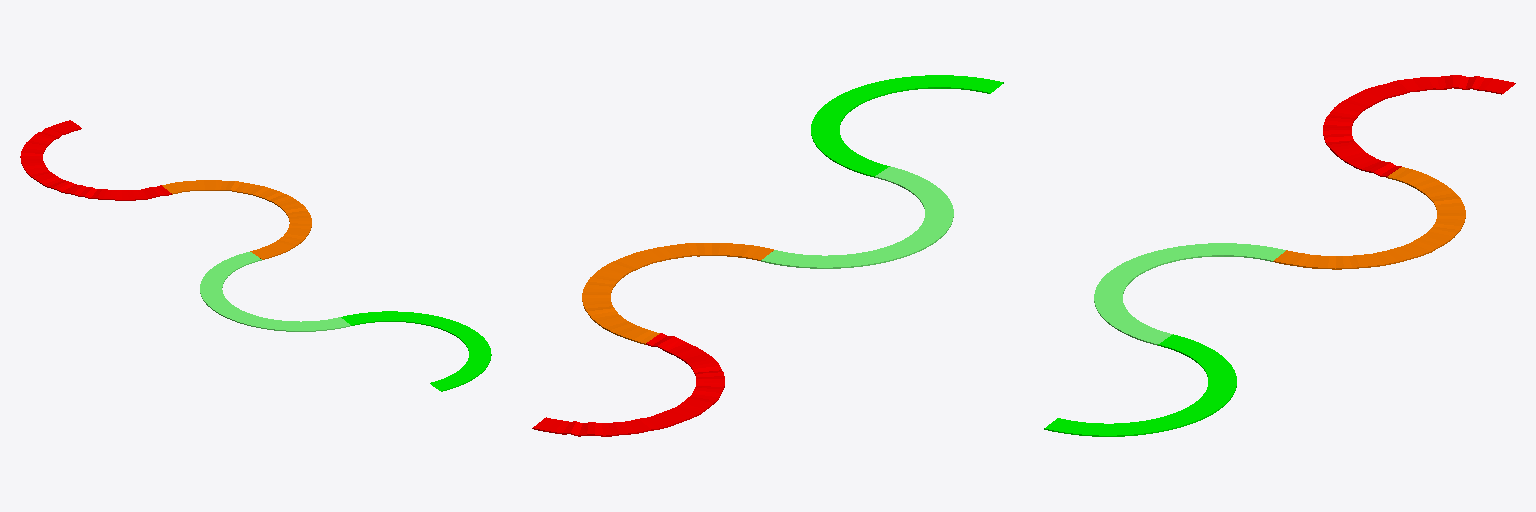
URDF robot description (double_s_wave_terrain):
<?xml version="1.0"?>
<robot name="double_s_wave_terrain">

  <!-- Base link (唯一的根节点) -->
  <link name="base_link">
    <inertial>
      <mass value="0.0"/>
      <inertia ixx="0.0" ixy="0.0" ixz="0.0" 
               iyy="0.0" iyz="0.0" izz="0.0"/>
    </inertial>
  </link>

  <!-- Segment 0: S1_Curve1_Easy, friction=0.90 -->
  <link name="segment_0_S1_Curve1_Easy">
    <visual>
      <origin xyz="0 0 0" rpy="0 0 0"/>
      <geometry>
        <mesh filename="double_s_wave_segment_S1_Curve1_Easy.obj" scale="1.0 1.0 1.0"/>
      </geometry>
      <material name="mat_0">
        <color rgba="0.0 1.0 0.0 1.0"/>
      </material>
    </visual>
    
    <collision>
      <origin xyz="0 0 0" rpy="0 0 0"/>
      <geometry>
        <mesh filename="double_s_wave_segment_S1_Curve1_Easy.obj" scale="1.0 1.0 1.0"/>
      </geometry>
      <contact>
        <lateral_friction value="0.9"/>
        <rolling_friction value="0.09000000000000001"/>
        <spinning_friction value="0.045000000000000005"/>
      </contact>
    </collision>
    
    <inertial>
      <mass value="0.0"/>
      <inertia ixx="0.0" ixy="0.0" ixz="0.0" 
               iyy="0.0" iyz="0.0" izz="0.0"/>
    </inertial>
  </link>
  
  <joint name="joint_0" type="fixed">
    <parent link="base_link"/>
    <child link="segment_0_S1_Curve1_Easy"/>
    <origin xyz="0 0 0" rpy="0 0 0"/>
  </joint>
  
  <!-- Segment 1: S1_Curve2_Easy, friction=0.85 -->
  <link name="segment_1_S1_Curve2_Easy">
    <visual>
      <origin xyz="0 0 0" rpy="0 0 0"/>
      <geometry>
        <mesh filename="double_s_wave_segment_S1_Curve2_Easy.obj" scale="1.0 1.0 1.0"/>
      </geometry>
      <material name="mat_1">
        <color rgba="0.5 1.0 0.5 1.0"/>
      </material>
    </visual>
    
    <collision>
      <origin xyz="0 0 0" rpy="0 0 0"/>
      <geometry>
        <mesh filename="double_s_wave_segment_S1_Curve2_Easy.obj" scale="1.0 1.0 1.0"/>
      </geometry>
      <contact>
        <lateral_friction value="0.85"/>
        <rolling_friction value="0.085"/>
        <spinning_friction value="0.0425"/>
      </contact>
    </collision>
    
    <inertial>
      <mass value="0.0"/>
      <inertia ixx="0.0" ixy="0.0" ixz="0.0" 
               iyy="0.0" iyz="0.0" izz="0.0"/>
    </inertial>
  </link>
  
  <joint name="joint_1" type="fixed">
    <parent link="base_link"/>
    <child link="segment_1_S1_Curve2_Easy"/>
    <origin xyz="0 0 0" rpy="0 0 0"/>
  </joint>
  
  <!-- Segment 2: S2_Curve1_Hard, friction=0.40 -->
  <link name="segment_2_S2_Curve1_Hard">
    <visual>
      <origin xyz="0 0 0" rpy="0 0 0"/>
      <geometry>
        <mesh filename="double_s_wave_segment_S2_Curve1_Hard.obj" scale="1.0 1.0 1.0"/>
      </geometry>
      <material name="mat_2">
        <color rgba="1.0 0.5 0.0 1.0"/>
      </material>
    </visual>
    
    <collision>
      <origin xyz="0 0 0" rpy="0 0 0"/>
      <geometry>
        <mesh filename="double_s_wave_segment_S2_Curve1_Hard.obj" scale="1.0 1.0 1.0"/>
      </geometry>
      <contact>
        <lateral_friction value="0.4"/>
        <rolling_friction value="0.04000000000000001"/>
        <spinning_friction value="0.020000000000000004"/>
      </contact>
    </collision>
    
    <inertial>
      <mass value="0.0"/>
      <inertia ixx="0.0" ixy="0.0" ixz="0.0" 
               iyy="0.0" iyz="0.0" izz="0.0"/>
    </inertial>
  </link>
  
  <joint name="joint_2" type="fixed">
    <parent link="base_link"/>
    <child link="segment_2_S2_Curve1_Hard"/>
    <origin xyz="0 0 0" rpy="0 0 0"/>
  </joint>
  
  <!-- Segment 3: S2_Curve2_Extreme, friction=0.25 -->
  <link name="segment_3_S2_Curve2_Extreme">
    <visual>
      <origin xyz="0 0 0" rpy="0 0 0"/>
      <geometry>
        <mesh filename="double_s_wave_segment_S2_Curve2_Extreme.obj" scale="1.0 1.0 1.0"/>
      </geometry>
      <material name="mat_3">
        <color rgba="1.0 0.0 0.0 0.9"/>
      </material>
    </visual>
    
    <collision>
      <origin xyz="0 0 0" rpy="0 0 0"/>
      <geometry>
        <mesh filename="double_s_wave_segment_S2_Curve2_Extreme.obj" scale="1.0 1.0 1.0"/>
      </geometry>
      <contact>
        <lateral_friction value="0.25"/>
        <rolling_friction value="0.025"/>
        <spinning_friction value="0.0125"/>
      </contact>
    </collision>
    
    <inertial>
      <mass value="0.0"/>
      <inertia ixx="0.0" ixy="0.0" ixz="0.0" 
               iyy="0.0" iyz="0.0" izz="0.0"/>
    </inertial>
  </link>
  
  <joint name="joint_3" type="fixed">
    <parent link="base_link"/>
    <child link="segment_3_S2_Curve2_Extreme"/>
    <origin xyz="0 0 0" rpy="0 0 0"/>
  </joint>
  
</robot>

--- What the picture shows (computed from the rendered views, not written in the file) ---
The picture shows the robot from 3 angles, left to right: view 1: azimuth 30°, elevation 25°; view 2: azimuth 150°, elevation 25°; view 3: azimuth 330°, elevation 25°; orthographic projection.
Robot: double_s_wave_terrain — 5 links, 4 joints (4 fixed); root link base_link; default pose: every joint at zero.
Visible links, largest first — view 1: segment_1_S1_Curve2_Easy, segment_3_S2_Curve2_Extreme, segment_0_S1_Curve1_Easy, segment_2_S2_Curve1_Hard; view 2: segment_3_S2_Curve2_Extreme, segment_1_S1_Curve2_Easy, segment_0_S1_Curve1_Easy, segment_2_S2_Curve1_Hard; view 3: segment_0_S1_Curve1_Easy, segment_2_S2_Curve1_Hard, segment_3_S2_Curve2_Extreme, segment_1_S1_Curve2_Easy.
Boxes of the visible links, x1,y1,x2,y2 form: segment_1_S1_Curve2_Easy: [200, 252, 350, 331]; segment_3_S2_Curve2_Extreme: [20, 120, 171, 200]; segment_0_S1_Curve1_Easy: [341, 311, 491, 391]; segment_2_S2_Curve1_Hard: [162, 180, 311, 259]; segment_3_S2_Curve2_Extreme: [532, 333, 724, 436]; segment_1_S1_Curve2_Easy: [761, 166, 953, 268]; segment_0_S1_Curve1_Easy: [811, 75, 1003, 177]; segment_2_S2_Curve1_Hard: [582, 243, 773, 344]; segment_0_S1_Curve1_Easy: [1044, 334, 1236, 436]; segment_2_S2_Curve1_Hard: [1273, 167, 1465, 269]; segment_3_S2_Curve2_Extreme: [1323, 75, 1515, 177]; segment_1_S1_Curve2_Easy: [1094, 243, 1285, 345].
Bounding box of the posed robot: 17.99 × 66 × 0.2733 m (x, y, z).
Meshes: 4 distinct files referenced, 4 mesh visuals loaded (4 OBJ).
